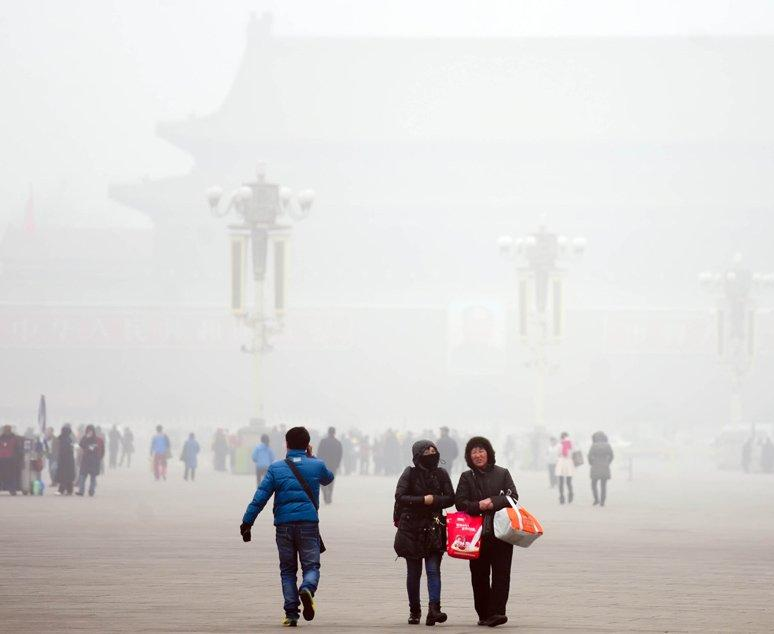person: (238, 424, 334, 626), (453, 434, 519, 626), (392, 438, 455, 624), (74, 422, 105, 495), (429, 424, 458, 501), (315, 426, 342, 505), (587, 428, 613, 507), (554, 430, 577, 505), (53, 422, 76, 496), (1, 423, 23, 497), (252, 431, 274, 495), (149, 425, 170, 483), (180, 432, 201, 482)
